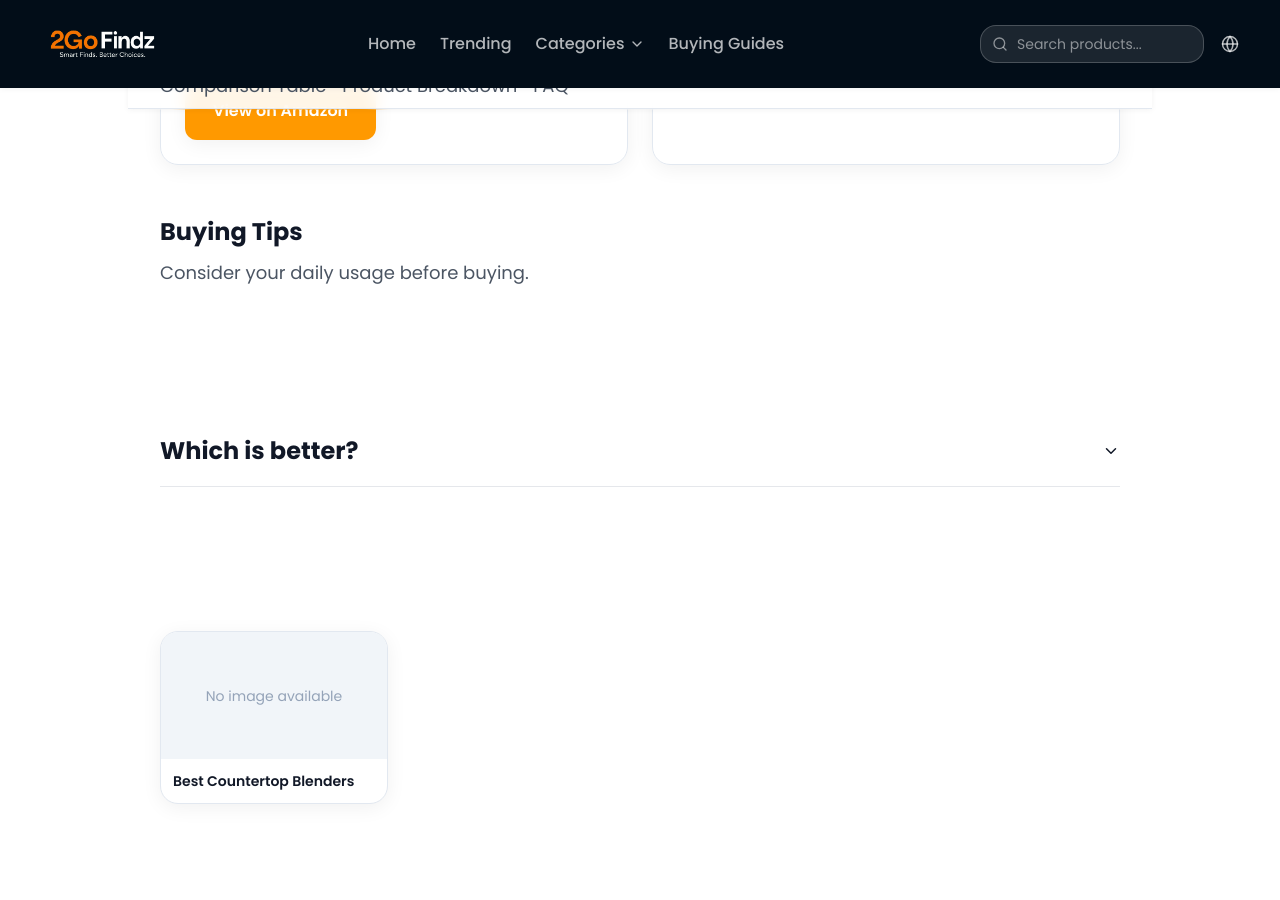
Test: ComparisonDetailPage › hides FAQ answers until their question is clicked
This screenshot has width=1280, height=900.
(page scrolled)
Expected: the text "It depends on your budget." is not shown
Click the button "Which is better?" at (259, 450), box [160, 432, 1120, 470]
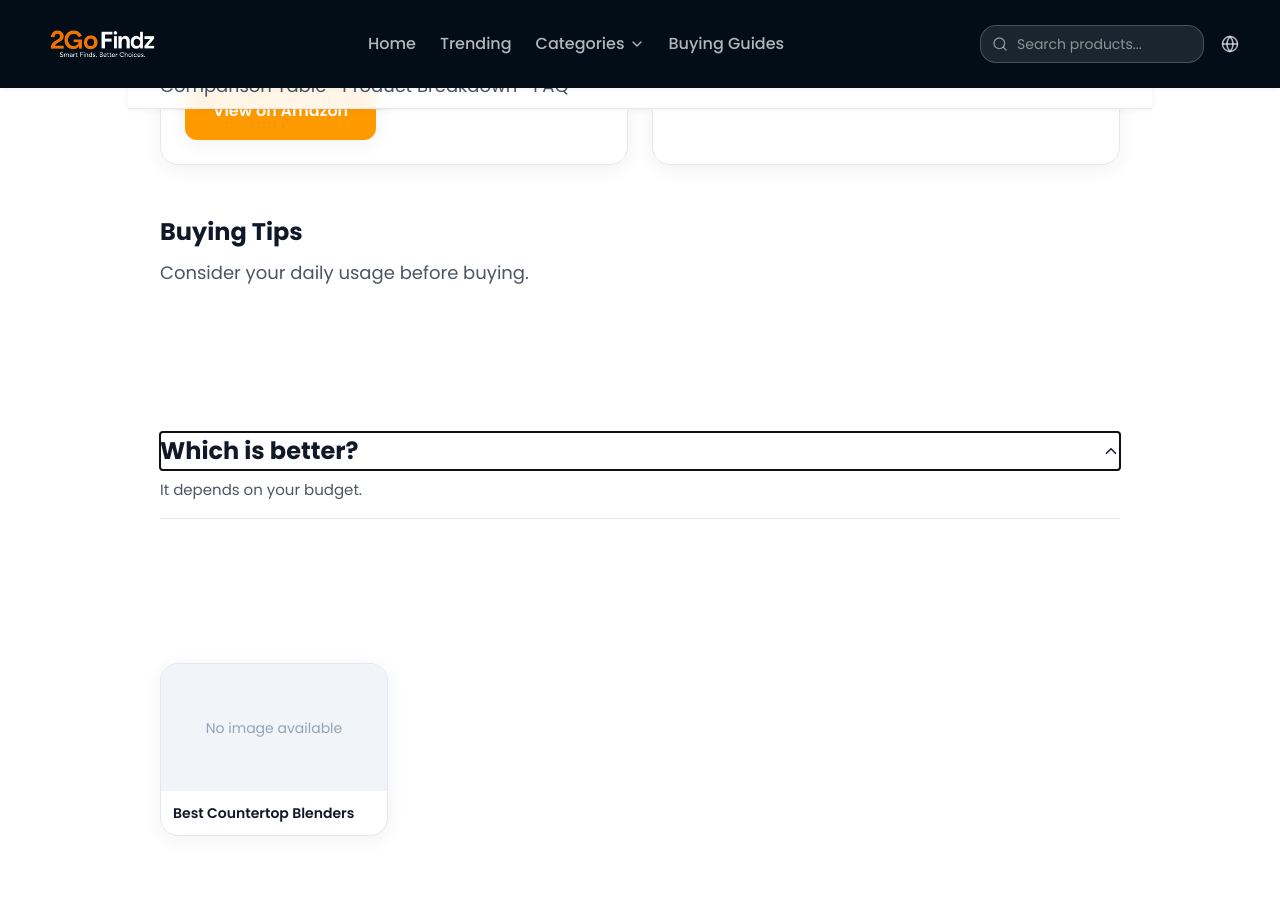
Now the text "It depends on your budget." is shown, box [160, 479, 362, 500]
Click the button "Which is better?" at (259, 450), box [160, 432, 1120, 470]
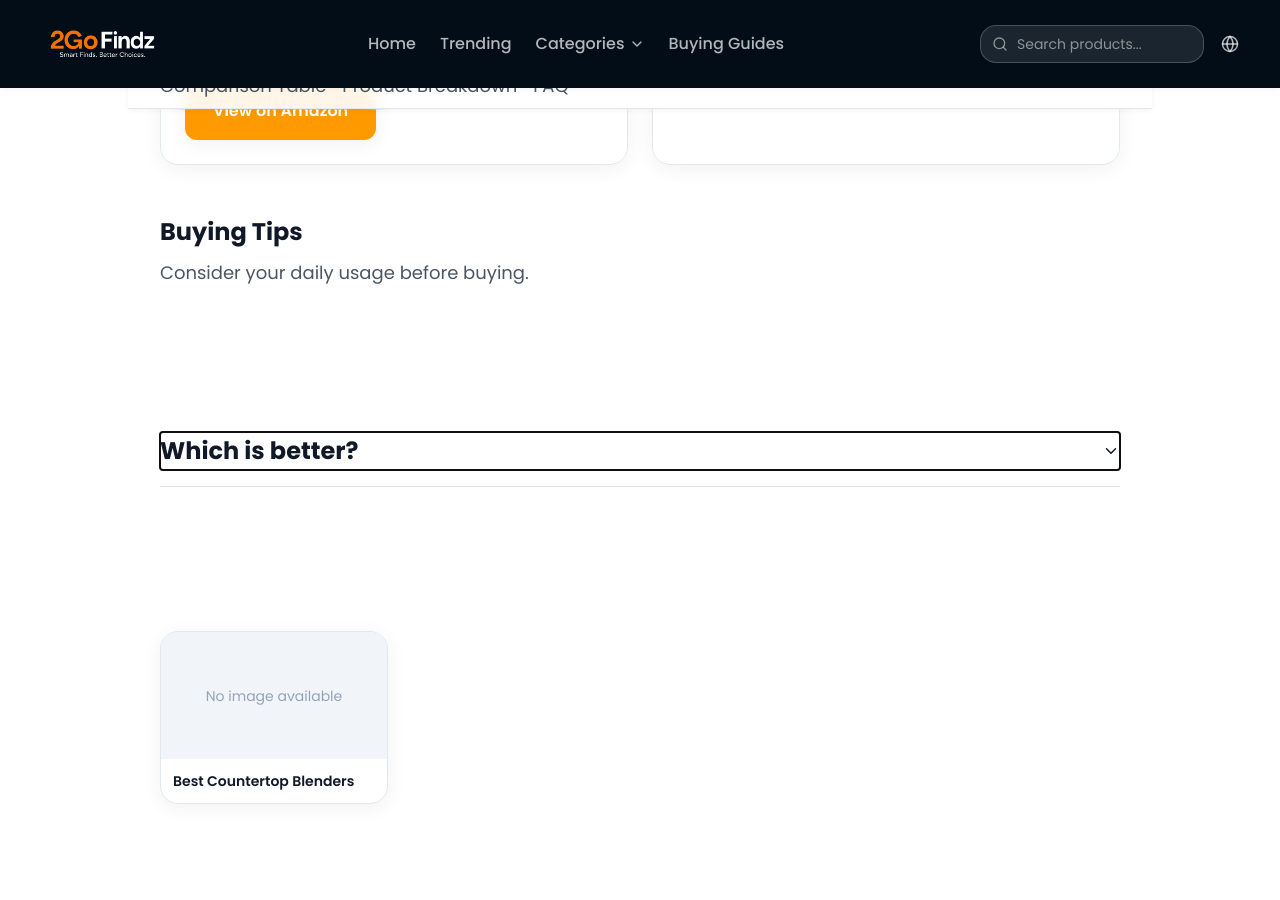
Now the text "It depends on your budget." is gone
